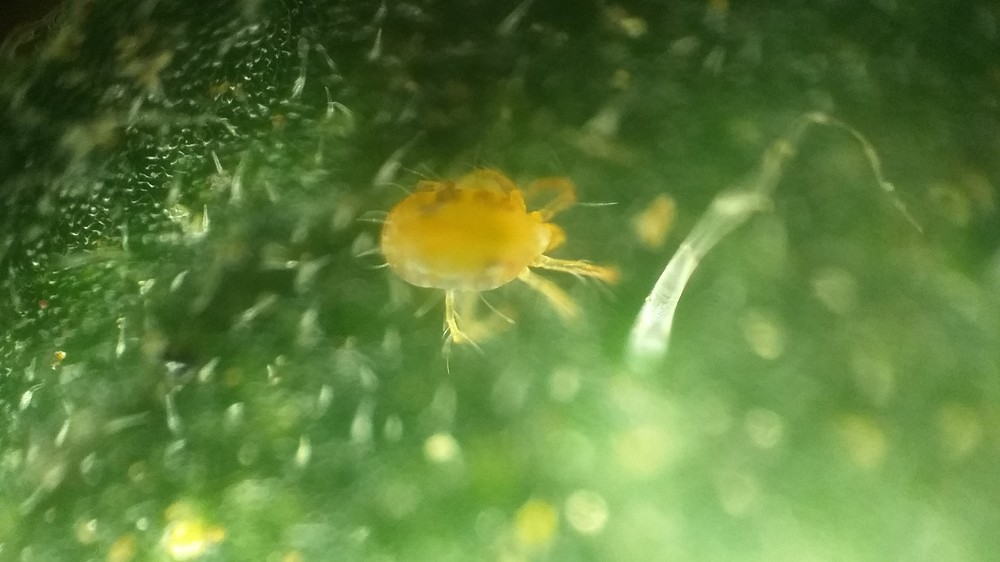Aracnido Rojo: (333, 143, 664, 374)
